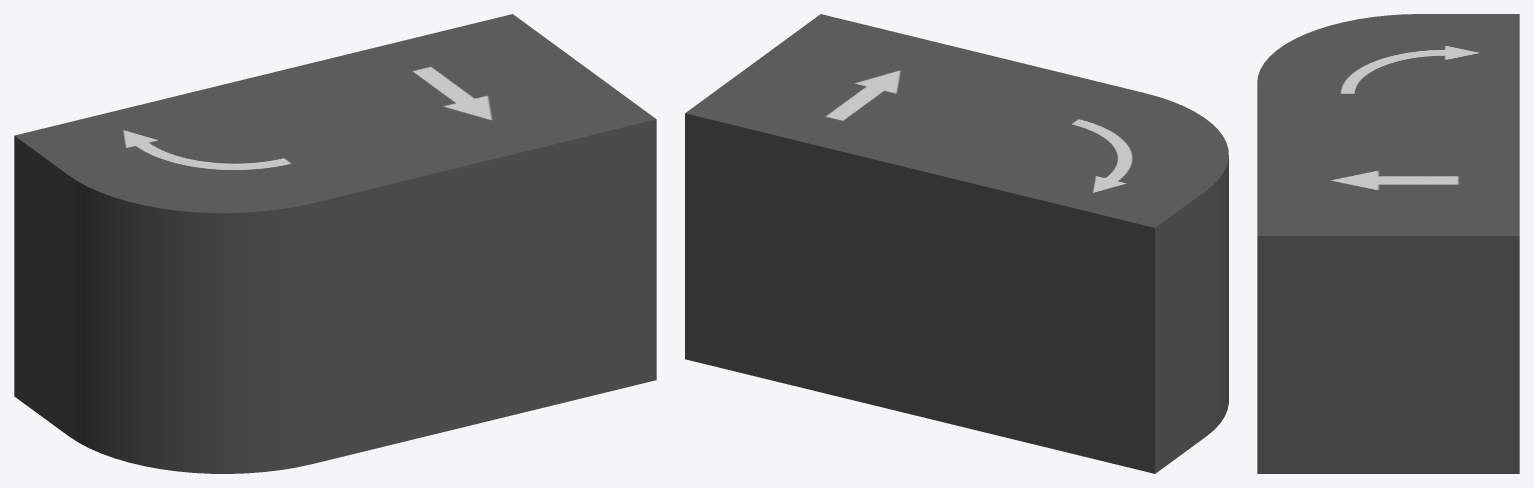
The model's file is Road_Textured.fbx.
The picture shows the model from 3 angles, left to right: view 1: azimuth 30°, elevation 25°; view 2: azimuth 150°, elevation 25°; view 3: azimuth 270°, elevation 25°; orthographic projection. The views are drawn at different scales.
Parts seen in each view (by area): view 1: 2x2_Road_Corner, 2x2_Road_Straight; view 2: 2x2_Road_Corner, 2x2_Road_Straight; view 3: 2x2_Road_Straight, 2x2_Road_Corner.
Part boxes in pixels (x1,y1,x2,y2): 2x2_Road_Corner: (14, 75, 407, 473); 2x2_Road_Straight: (264, 14, 656, 440); 2x2_Road_Corner: (920, 71, 1228, 473); 2x2_Road_Straight: (685, 14, 1055, 416); 2x2_Road_Straight: (1257, 125, 1519, 473); 2x2_Road_Corner: (1257, 14, 1519, 124).
Size of the model in its own units: 4 by 2 by 2.
